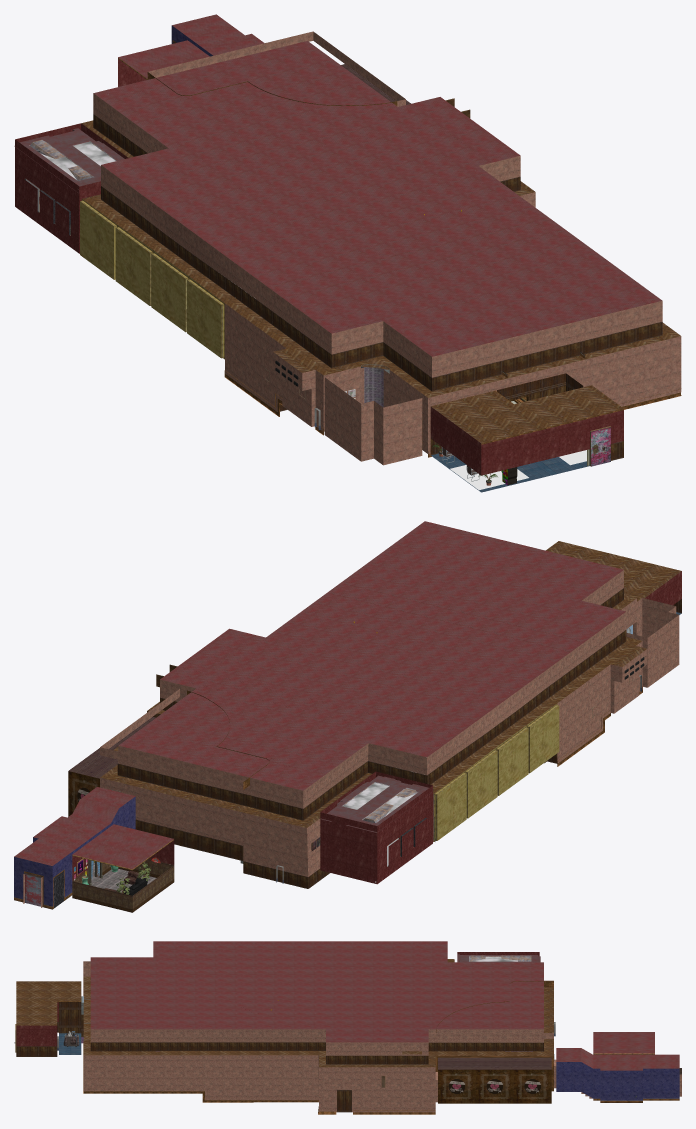
Rendered from triangle.glb.
3 views of the same model, one above another, from view 1: azimuth 30°, elevation 25°; view 2: azimuth 150°, elevation 25°; view 3: azimuth 270°, elevation 25° (orthographic). The views are drawn at different scales.
Parts seen in each view (by area): view 1: mainminge.006, mainminge.002, mainminge.018, mainminge.019, mainminge.005, mainminge.014, clamchange_ncl1_1, mainminge.012, mainminge.015, mainminge.008, triangintsign_ncl1_1.002, clamglassblock.001 (+2 smaller); view 2: mainminge.006, mainminge.002, mainminge.005, mainminge.019, mainminge.018, mainminge.014, clamchange_ncl1_1, mainminge.013, mainminge.020, mainminge.015, mainminge.017, mainminge.009 (+1 smaller); view 3: mainminge.006, mainminge.002, mainminge.018, mainminge.005, mainminge.009, mainminge.013, mainminge.008, mainminge.017, mainminge.019, clamchange_ncl1_1, mainminge.012, mainminge.011.
Part boxes in pixels (x1,y1,x2,y2): mainminge.006: [93, 14, 661, 356]; mainminge.002: [93, 31, 681, 465]; mainminge.018: [81, 120, 680, 443]; mainminge.019: [15, 57, 623, 475]; mainminge.005: [93, 114, 662, 460]; mainminge.014: [80, 201, 221, 357]; clamchange_ncl1_1: [14, 128, 124, 193]; mainminge.012: [431, 451, 589, 492]; mainminge.015: [80, 199, 224, 359]; mainminge.008: [147, 72, 681, 457]; triangintsign_ncl1_1.002: [450, 450, 586, 490]; clamglassblock.001: [361, 364, 389, 406]; mainminge.006: [14, 521, 625, 869]; mainminge.002: [100, 570, 679, 876]; mainminge.005: [117, 588, 681, 888]; mainminge.019: [72, 571, 681, 884]; mainminge.018: [100, 541, 681, 827]; mainminge.014: [437, 706, 559, 840]; clamchange_ncl1_1: [320, 775, 433, 832]; mainminge.013: [14, 796, 135, 906]; mainminge.020: [72, 861, 174, 909]; mainminge.015: [93, 703, 558, 862]; mainminge.017: [69, 717, 155, 778]; mainminge.009: [68, 771, 99, 816]; mainminge.006: [90, 941, 679, 1070]; mainminge.002: [83, 961, 556, 1112]; mainminge.018: [16, 959, 553, 1067]; mainminge.005: [16, 1002, 543, 1112]; mainminge.009: [438, 1069, 551, 1103]; mainminge.013: [556, 1062, 679, 1100]; mainminge.008: [83, 981, 553, 1114]; mainminge.017: [438, 1057, 551, 1069]; mainminge.019: [16, 952, 539, 1046]; clamchange_ncl1_1: [457, 954, 540, 962]; mainminge.012: [59, 1033, 81, 1054]; mainminge.011: [593, 1068, 681, 1102].
Size of what is drawn, in the model's own units: 27.09 by 8.06 by 67.61.
Materials: 242 (231 with a texture image).
